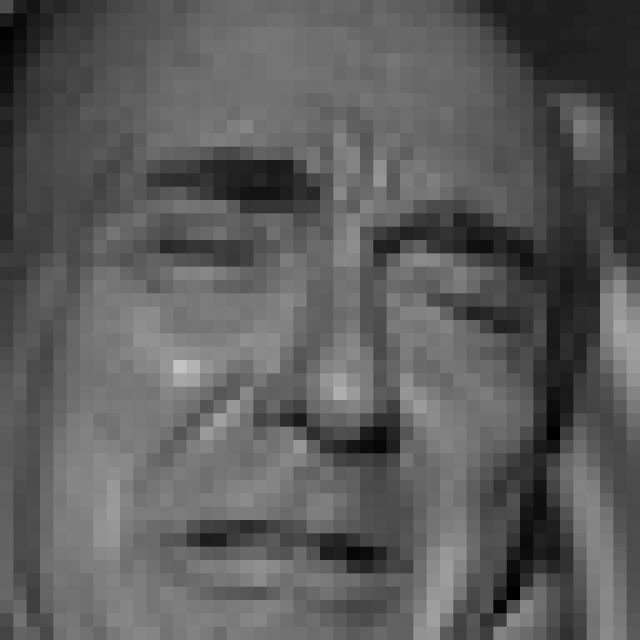sad: (104, 145, 542, 611)
